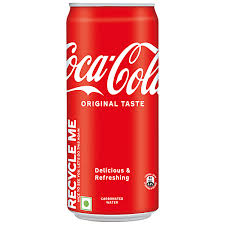can: (63, 1, 166, 221)
